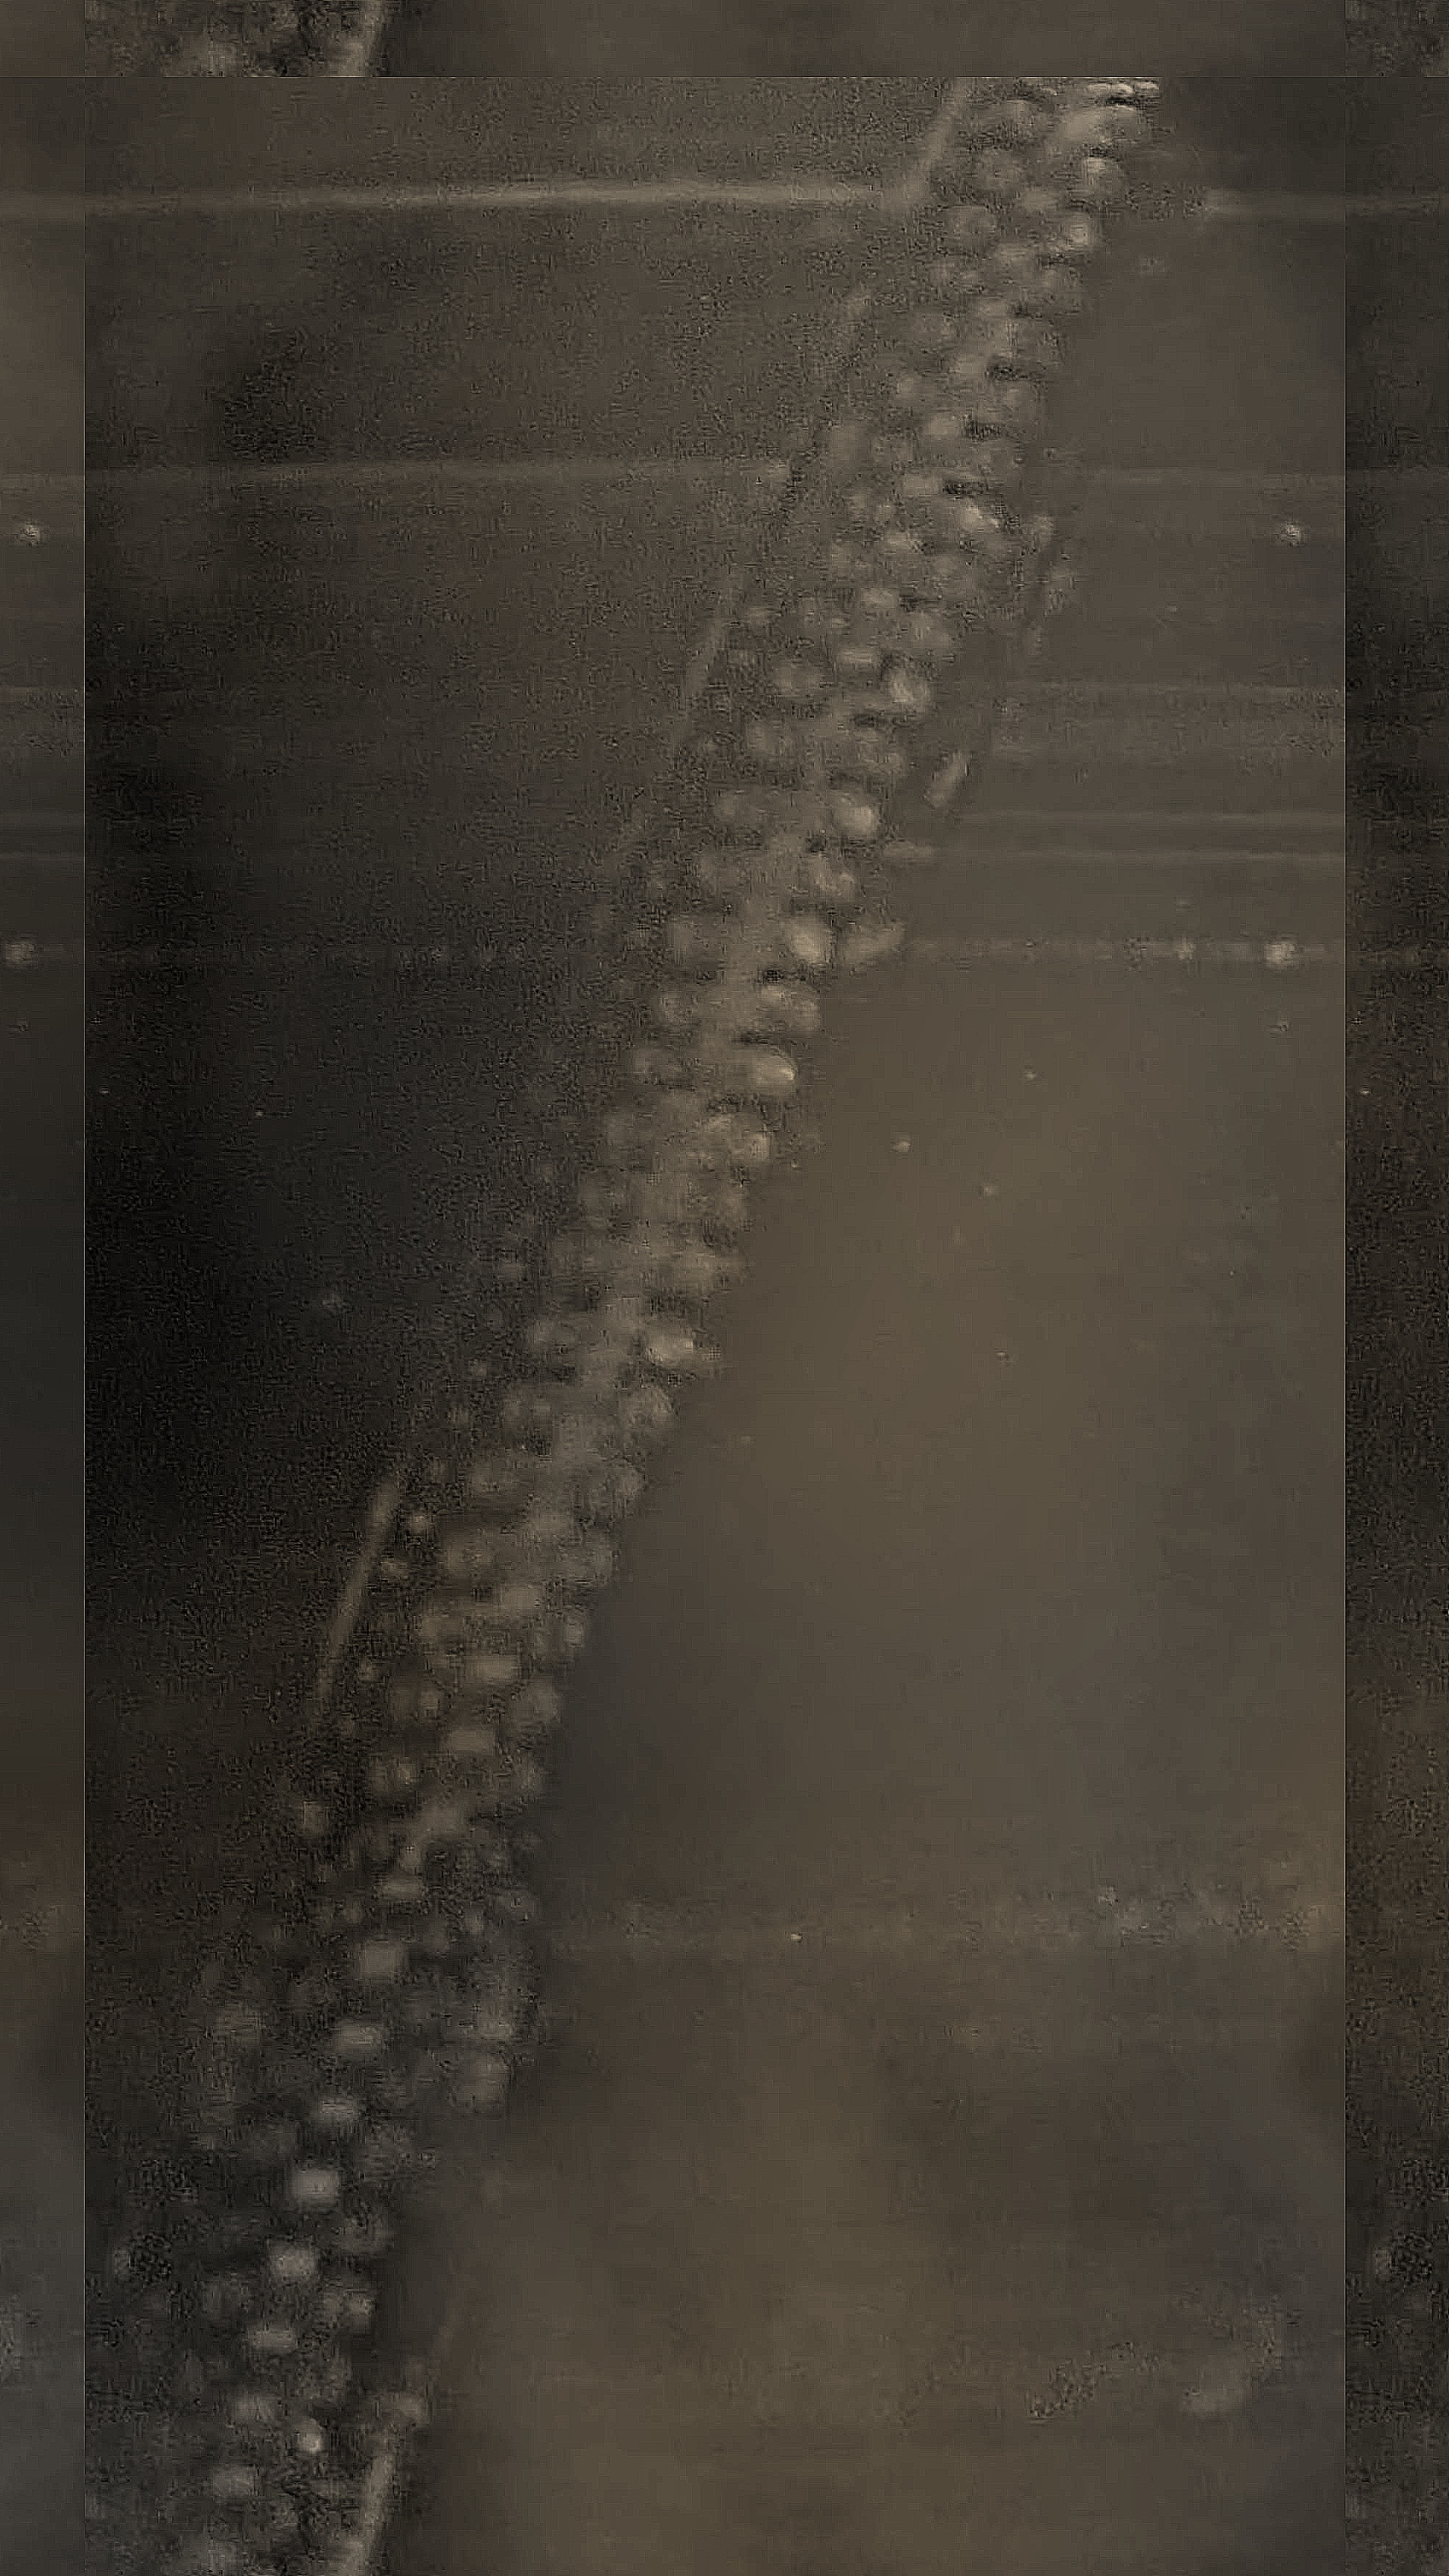splice_vulcanized: (83, 76, 1164, 2576)
